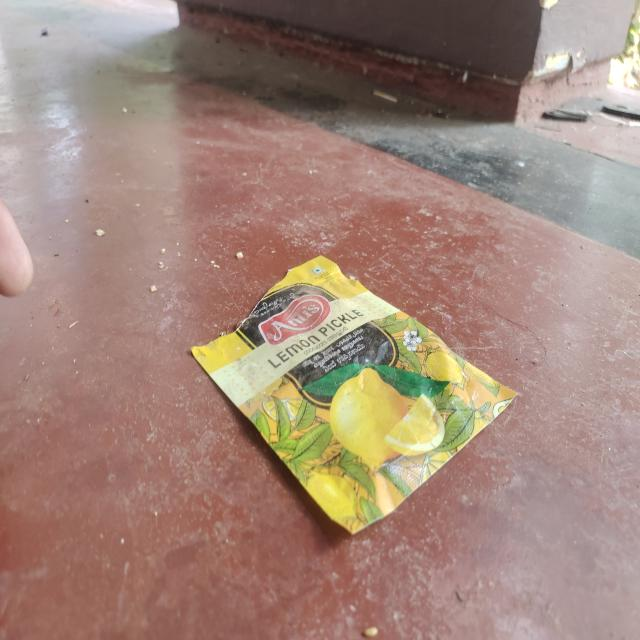plastic: (187, 253, 521, 541)
